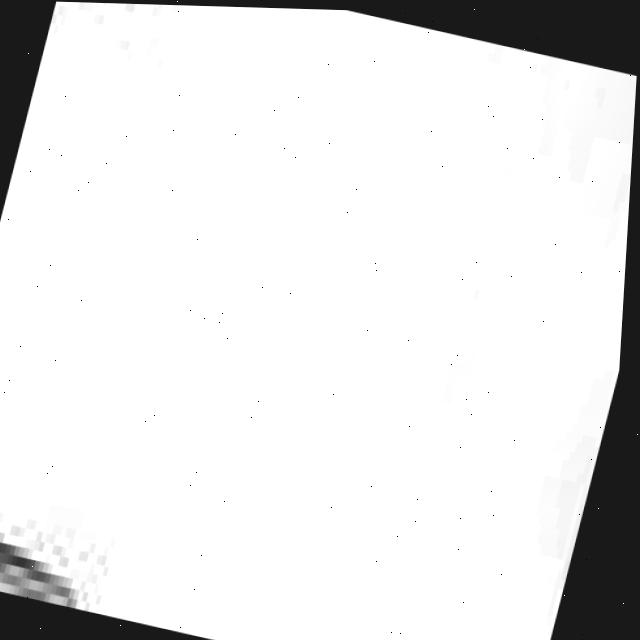glass: (0, 1, 637, 640)
